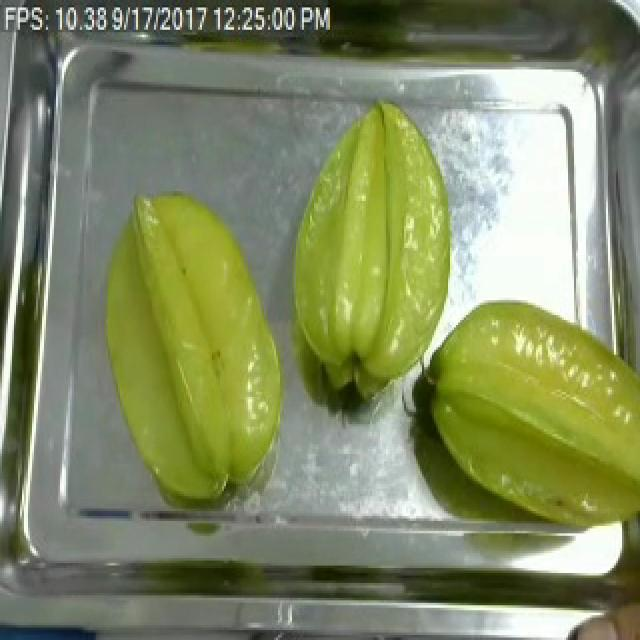fruit: (84, 176, 300, 516), (274, 89, 460, 402), (416, 295, 640, 543)
